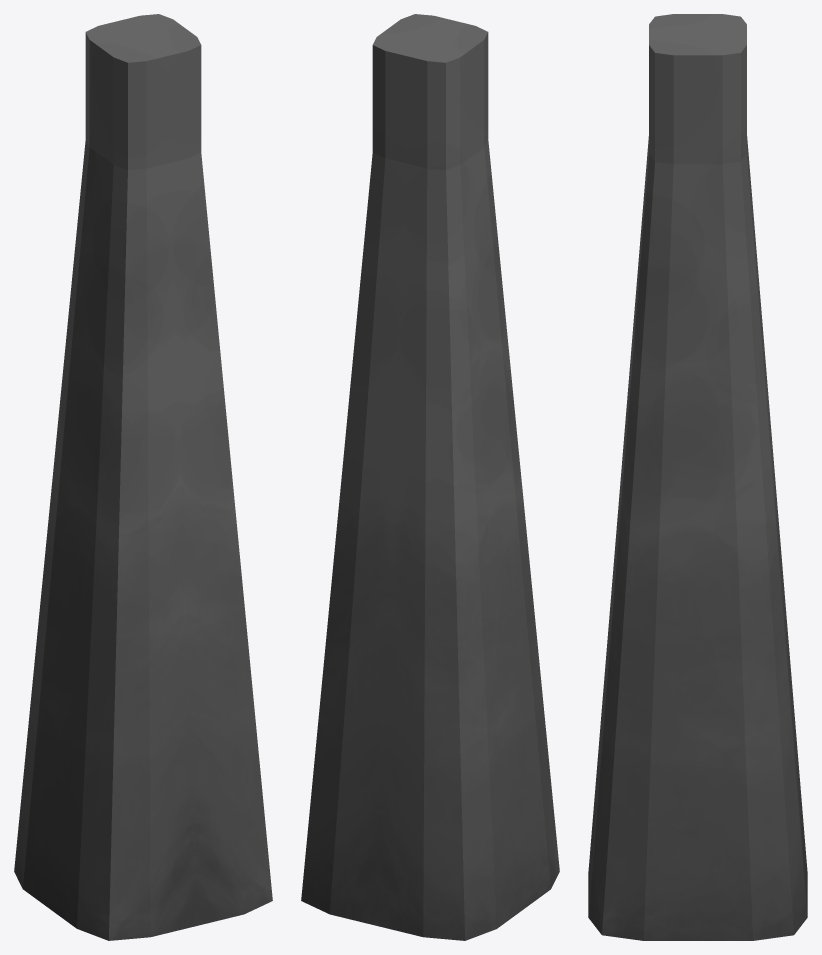
File: Radome_foundation.fbx
3 views of the same model, side by side, from view 1: azimuth 30°, elevation 25°; view 2: azimuth 150°, elevation 25°; view 3: azimuth 270°, elevation 25° (orthographic).
Visible parts, largest first — view 1: Foundation; view 2: Foundation; view 3: Foundation.
Part boxes in pixels (left/top/right/bottom): Foundation: left=14, top=14, right=272, bottom=940; Foundation: left=301, top=14, right=559, bottom=940; Foundation: left=588, top=14, right=807, bottom=940.
Bounding box in the file's own units: 1091 × 4729 × 1091.
1 material, 1 textured.
